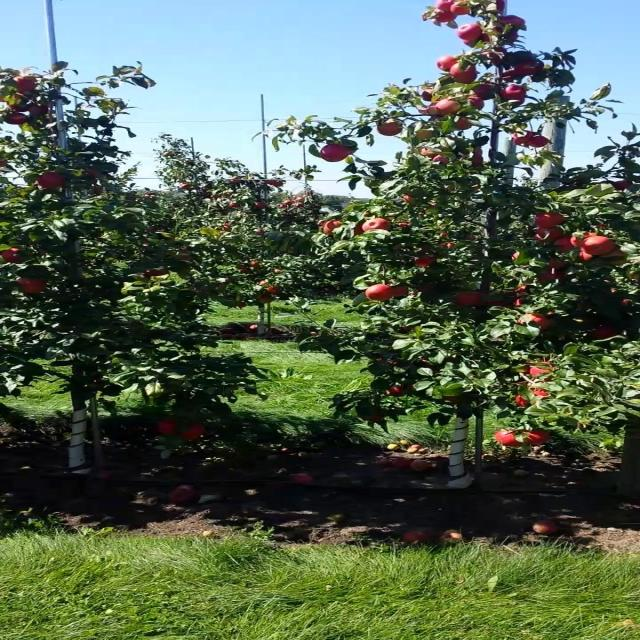apple: (319, 144, 350, 164), (582, 240, 619, 255), (20, 280, 50, 296), (604, 248, 629, 267), (454, 292, 484, 307), (518, 60, 546, 76), (540, 212, 567, 228), (518, 316, 551, 329), (497, 432, 523, 448), (447, 64, 476, 78), (483, 48, 510, 63), (525, 432, 553, 446), (369, 284, 391, 301), (532, 364, 555, 380), (589, 328, 619, 340), (42, 172, 64, 188), (184, 424, 206, 440), (440, 100, 462, 116), (156, 420, 178, 436), (497, 28, 519, 44), (490, 28, 512, 44), (376, 124, 405, 136), (461, 24, 484, 39), (554, 236, 574, 252), (454, 116, 475, 131), (511, 132, 535, 145), (540, 228, 565, 240), (13, 80, 37, 92), (433, 12, 457, 24), (476, 84, 494, 100), (540, 272, 565, 283), (504, 88, 526, 100), (611, 180, 633, 192), (369, 220, 391, 232), (28, 104, 50, 116), (440, 56, 457, 71), (547, 260, 569, 271), (6, 248, 21, 264), (419, 108, 443, 118), (326, 220, 341, 235), (504, 16, 526, 26), (532, 136, 549, 148), (504, 72, 521, 84), (511, 284, 528, 296), (6, 116, 28, 125), (419, 148, 437, 159), (447, 396, 468, 405), (419, 256, 434, 268), (454, 4, 469, 16), (468, 100, 484, 110), (390, 288, 409, 296), (6, 104, 25, 112), (518, 396, 530, 408), (490, 300, 508, 308), (141, 272, 169, 277), (376, 360, 396, 367), (390, 388, 407, 396), (433, 156, 450, 164), (582, 232, 597, 241), (355, 224, 366, 236), (483, 32, 494, 43), (419, 132, 434, 140), (369, 416, 384, 424), (511, 300, 526, 308), (461, 40, 478, 47), (426, 92, 436, 102), (440, 4, 453, 11), (582, 252, 592, 261), (532, 392, 549, 397), (497, 4, 505, 12), (404, 196, 412, 204), (511, 252, 519, 260), (84, 172, 100, 176), (476, 148, 484, 156), (468, 236, 476, 240)
